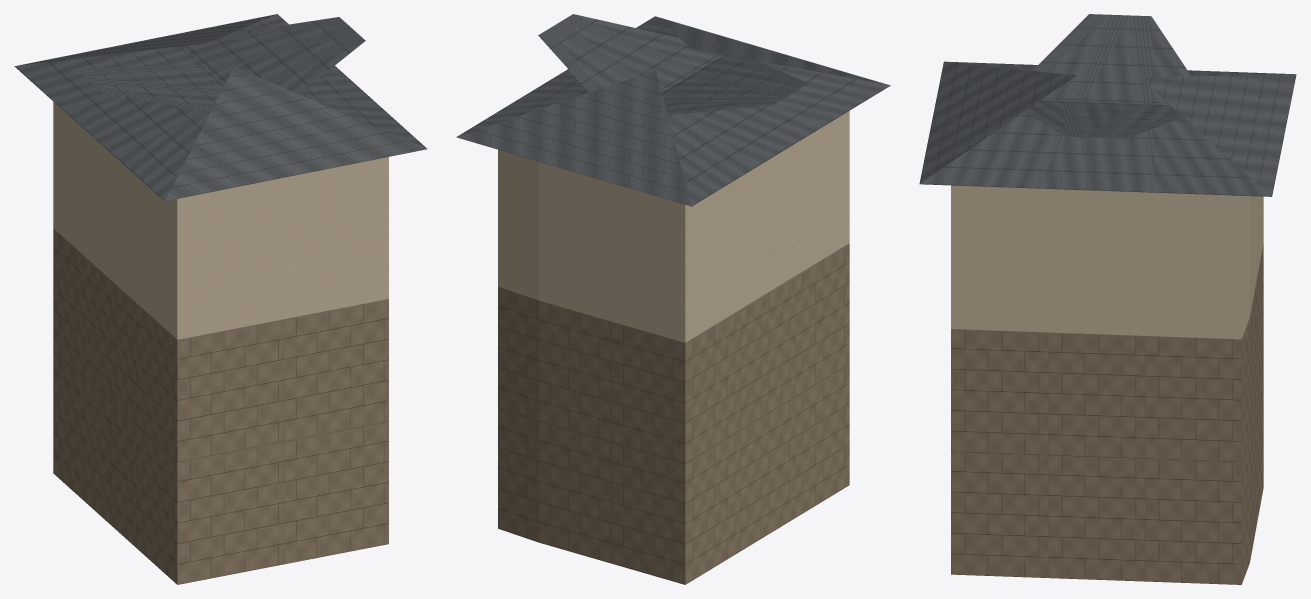
Rendered from bld_c40_-48_457.gltf.
3 views of the same model, side by side, from view 1: azimuth 30°, elevation 25°; view 2: azimuth 150°, elevation 25°; view 3: azimuth 270°, elevation 25° (orthographic).
Visible parts, largest first — view 1: bld_c40_-48_457; view 2: bld_c40_-48_457; view 3: bld_c40_-48_457.
Part boxes in pixels (<box>): bld_c40_-48_457: <box>14,14,427,584</box>; bld_c40_-48_457: <box>456,14,890,584</box>; bld_c40_-48_457: <box>919,14,1296,584</box>.
Size of the model in its own units: 5.49 by 8.6 by 6.47.
Materials: 3 (3 with a texture image).
